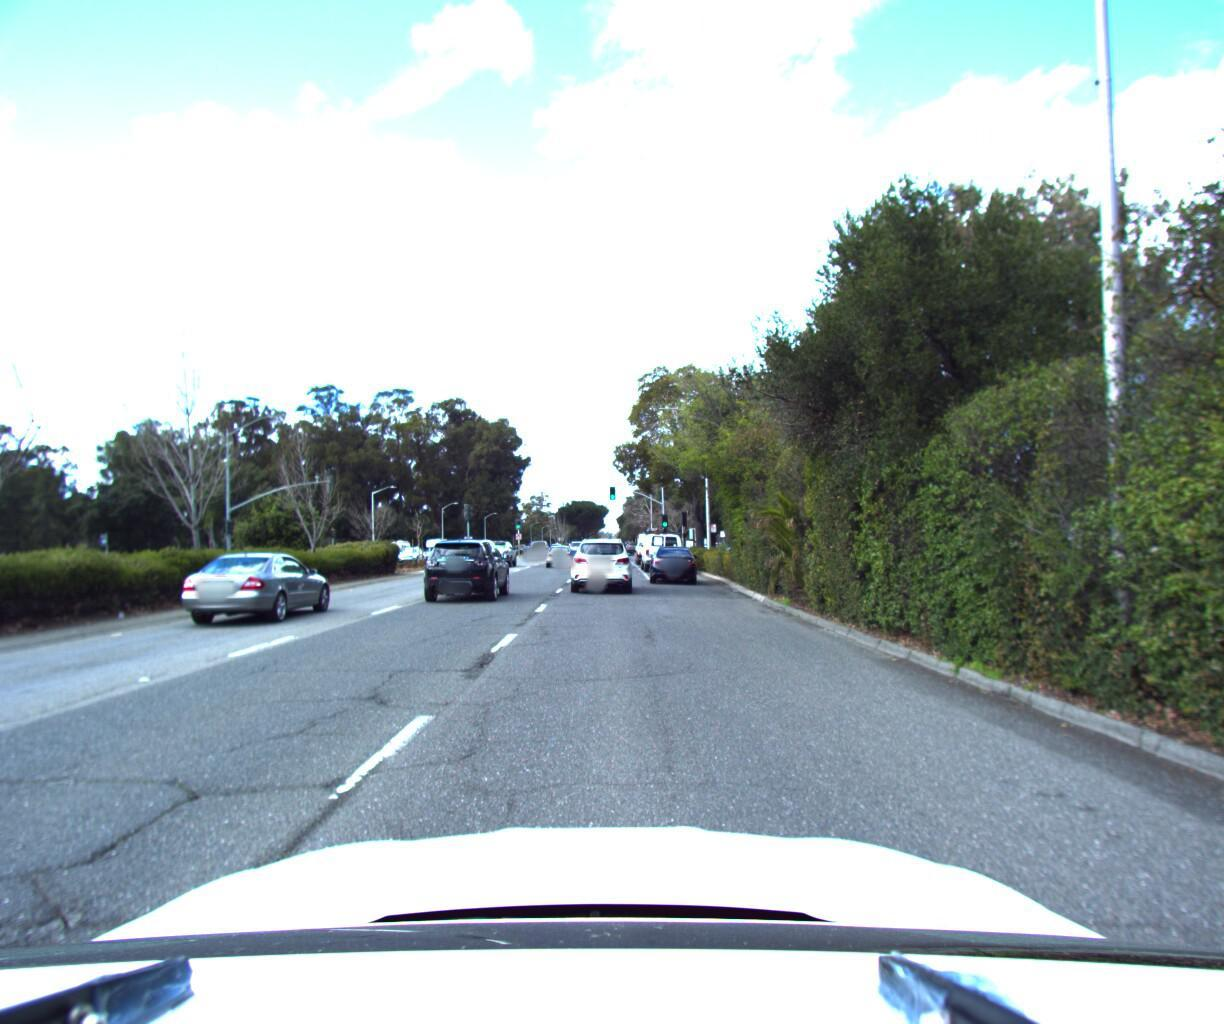car: (169, 554, 339, 636), (413, 540, 511, 609), (567, 538, 635, 602), (637, 526, 687, 574), (644, 546, 699, 588), (629, 532, 667, 569), (480, 544, 519, 574), (542, 547, 575, 573), (529, 545, 554, 563)
